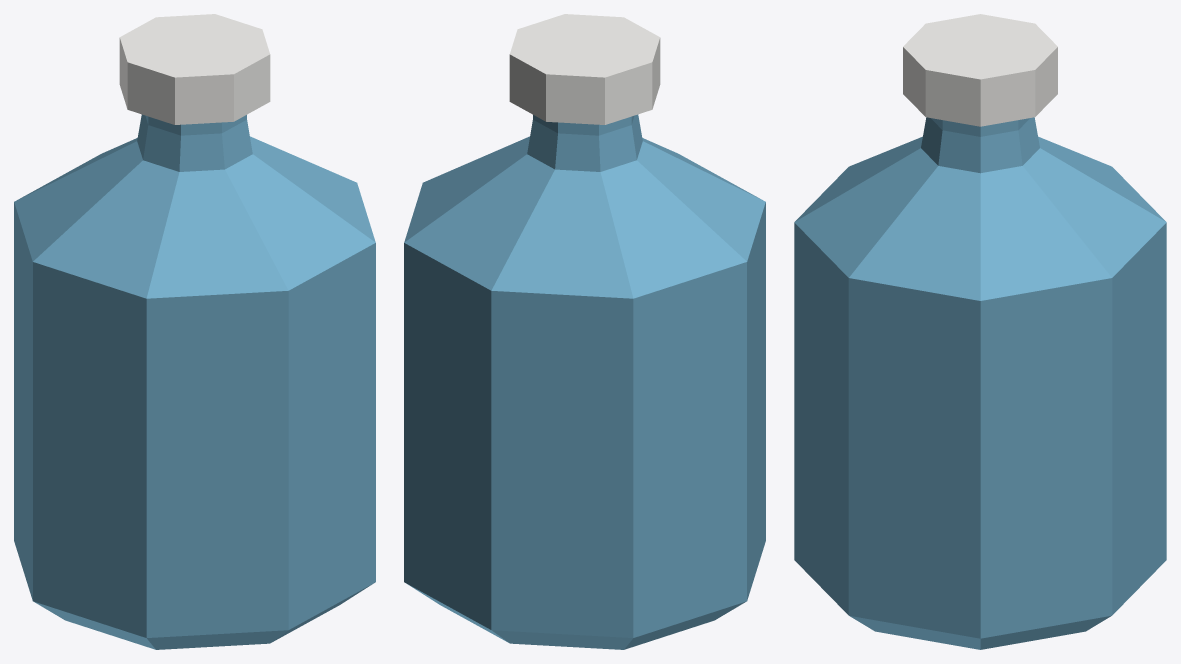
Rendered from garrafao.fbx.
3 views of the same model, side by side, from view 1: azimuth 30°, elevation 25°; view 2: azimuth 150°, elevation 25°; view 3: azimuth 270°, elevation 25° (orthographic).
Parts seen in each view (by area): view 1: garrafao; view 2: garrafao; view 3: garrafao.
Part boxes in pixels (bbox=[...]): garrafao: bbox=[14, 14, 375, 649]; garrafao: bbox=[404, 14, 765, 649]; garrafao: bbox=[794, 14, 1166, 649].
Size of the model in its own units: 25 by 40 by 25.
